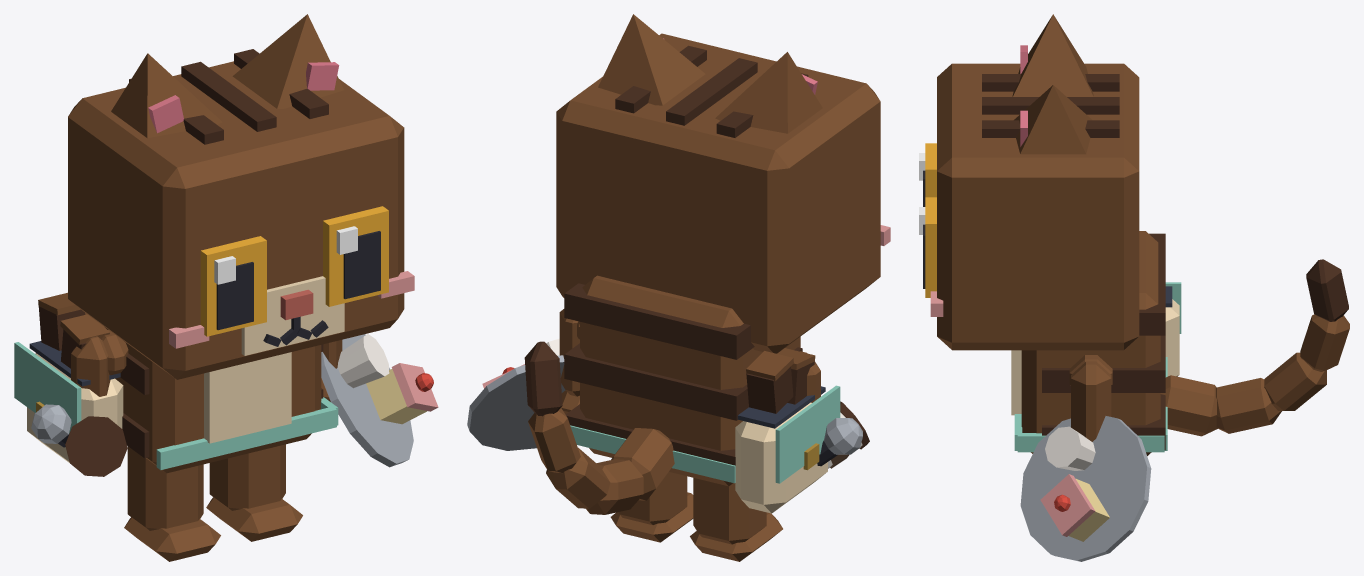
The model's file is CatCafe_Cat_Brownie_Work.glb.
3 views of the same model, side by side, from view 1: azimuth 30°, elevation 25°; view 2: azimuth 150°, elevation 25°; view 3: azimuth 270°, elevation 25° (orthographic). The views are drawn at different scales.
Parts seen in each view (by area): view 1: CatCafe_Cat_Brownie_Work_Head, CatCafe_Cat_Brownie_Work_Body, CatCafe_Cat_Brownie_Work_Held_Waiter, CatCafe_Cat_Brownie_Work_LegB2, CatCafe_Cat_Brownie_Work_LegB1, CatCafe_Cat_Brownie_Work_Eye2, CatCafe_Cat_Brownie_Work_Eye1, CatCafe_Cat_Brownie_Work_EarL, CatCafe_Cat_Brownie_Work_EarR, CatCafe_Cat_Brownie_Work_Held_Barista, CatCafe_Cat_Brownie_Work_LegF2, CatCafe_Cat_Brownie_Work_Held_Entertainer; view 2: CatCafe_Cat_Brownie_Work_Head, CatCafe_Cat_Brownie_Work_Body, CatCafe_Cat_Brownie_Work_Tail, CatCafe_Cat_Brownie_Work_EarL, CatCafe_Cat_Brownie_Work_LegB2, CatCafe_Cat_Brownie_Work_Held_Waiter, CatCafe_Cat_Brownie_Work_EarR, CatCafe_Cat_Brownie_Work_LegB1, CatCafe_Cat_Brownie_Work_Held_Entertainer, CatCafe_Cat_Brownie_Work_LegF1; view 3: CatCafe_Cat_Brownie_Work_Head, CatCafe_Cat_Brownie_Work_Body, CatCafe_Cat_Brownie_Work_Held_Waiter, CatCafe_Cat_Brownie_Work_Tail, CatCafe_Cat_Brownie_Work_EarR, CatCafe_Cat_Brownie_Work_EarL, CatCafe_Cat_Brownie_Work_LegF1, CatCafe_Cat_Brownie_Work_Eye1, CatCafe_Cat_Brownie_Work_Eye2.
Part boxes in pixels (x1,y1,x2,y2): CatCafe_Cat_Brownie_Work_Head: (68,49,414,379); CatCafe_Cat_Brownie_Work_Body: (14,292,338,473); CatCafe_Cat_Brownie_Work_Held_Waiter: (321,334,438,467); CatCafe_Cat_Brownie_Work_LegB2: (124,446,220,561); CatCafe_Cat_Brownie_Work_LegB1: (206,444,302,541); CatCafe_Cat_Brownie_Work_Eye2: (200,236,266,336); CatCafe_Cat_Brownie_Work_Eye1: (323,206,388,306); CatCafe_Cat_Brownie_Work_EarL: (232,14,343,108); CatCafe_Cat_Brownie_Work_EarR: (111,53,222,138); CatCafe_Cat_Brownie_Work_Held_Barista: (65,416,127,476); CatCafe_Cat_Brownie_Work_LegF2: (71,336,110,396); CatCafe_Cat_Brownie_Work_Held_Entertainer: (31,404,71,447); CatCafe_Cat_Brownie_Work_Head: (556,33,890,353); CatCafe_Cat_Brownie_Work_Body: (564,275,840,513); CatCafe_Cat_Brownie_Work_Tail: (524,341,674,514); CatCafe_Cat_Brownie_Work_EarL: (598,14,705,105); CatCafe_Cat_Brownie_Work_LegB2: (690,478,782,561); CatCafe_Cat_Brownie_Work_Held_Waiter: (467,338,565,450); CatCafe_Cat_Brownie_Work_EarR: (715,52,822,133); CatCafe_Cat_Brownie_Work_LegB1: (610,472,693,542); CatCafe_Cat_Brownie_Work_Held_Entertainer: (817,418,862,466); CatCafe_Cat_Brownie_Work_LegF1: (559,309,579,414); CatCafe_Cat_Brownie_Work_Head: (930,63,1139,350); CatCafe_Cat_Brownie_Work_Body: (1011,231,1181,455); CatCafe_Cat_Brownie_Work_Held_Waiter: (1020,416,1151,561); CatCafe_Cat_Brownie_Work_Tail: (1160,259,1349,436); CatCafe_Cat_Brownie_Work_EarR: (1012,14,1093,96); CatCafe_Cat_Brownie_Work_EarL: (1014,85,1092,154); CatCafe_Cat_Brownie_Work_LegF1: (1071,361,1111,441); CatCafe_Cat_Brownie_Work_Eye1: (919,197,936,297); CatCafe_Cat_Brownie_Work_Eye2: (919,143,936,206).
Size of the model in its own units: 1.53 by 1.93 by 1.62.
1 material, 1 textured.
